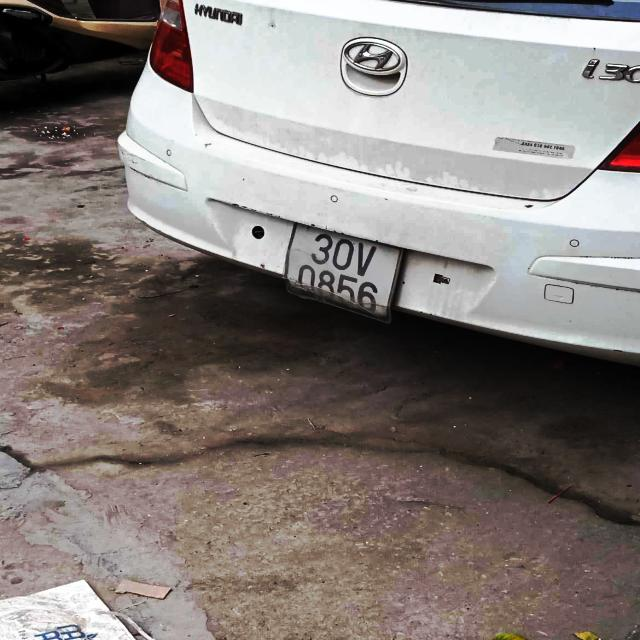license_plate: (281, 221, 406, 323)
